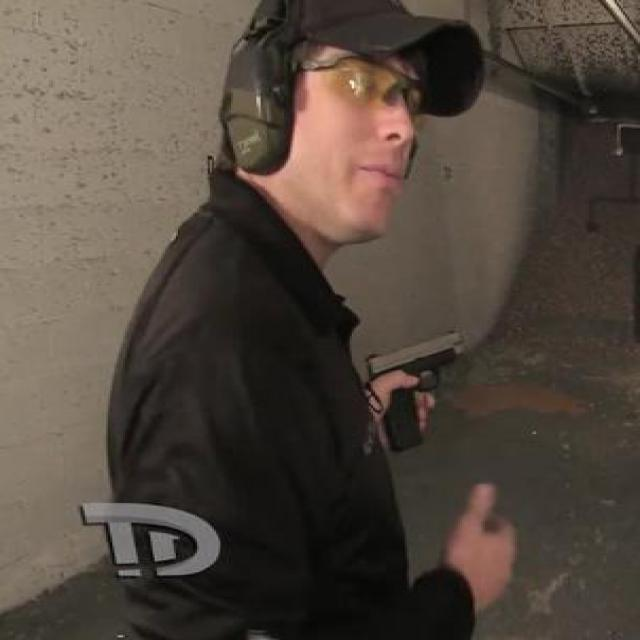Gun: (366, 328, 471, 450)
